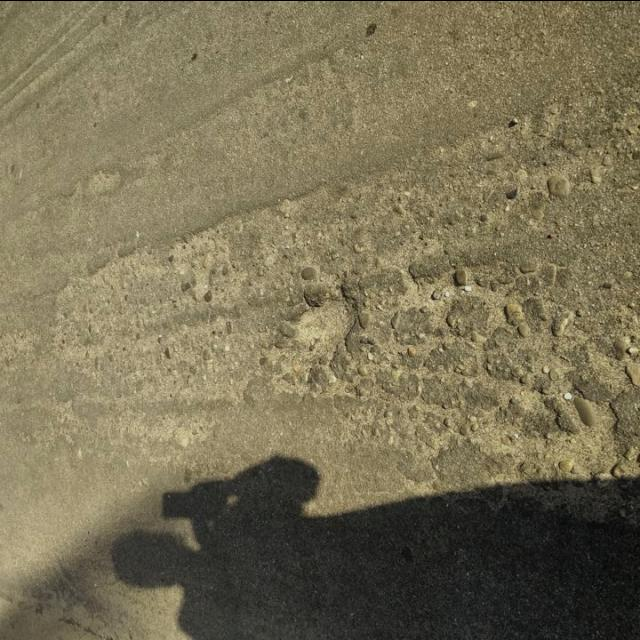pothole: (253, 241, 403, 397)
